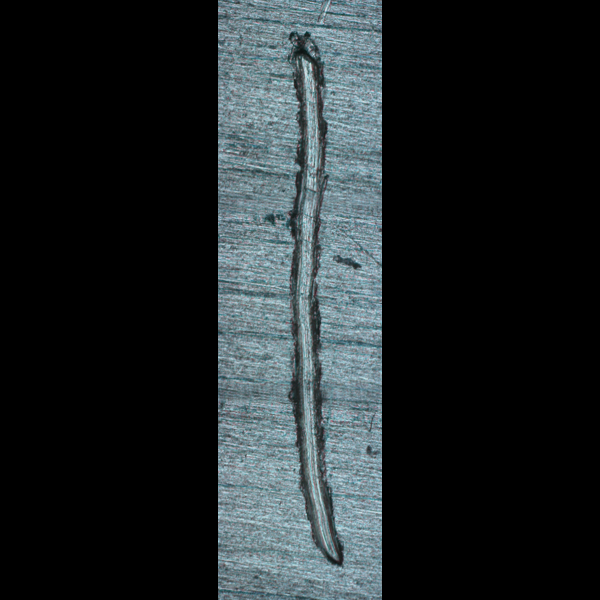d: (273, 24, 349, 569)
